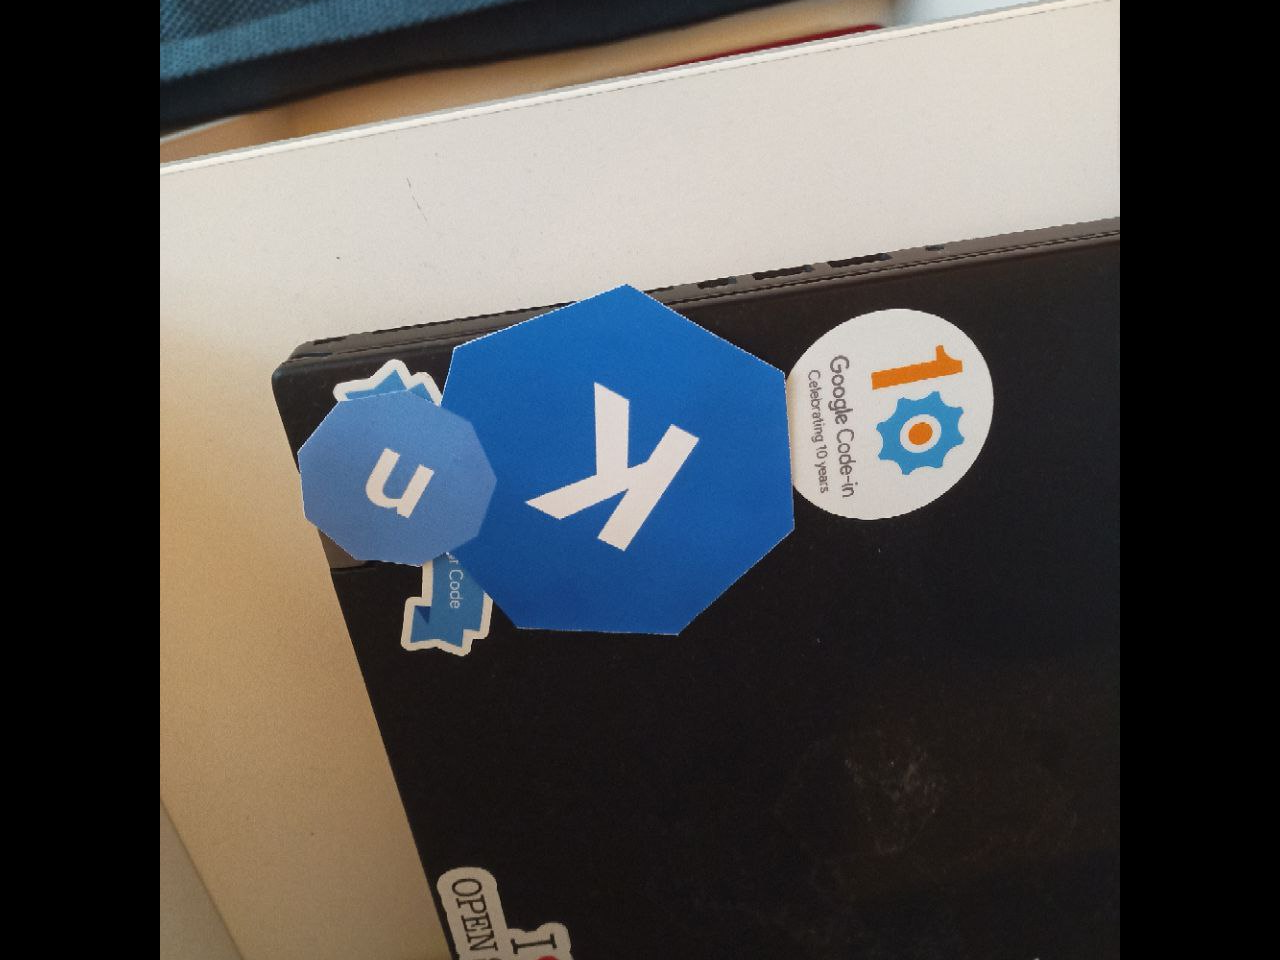knative: (299, 285, 793, 636)
